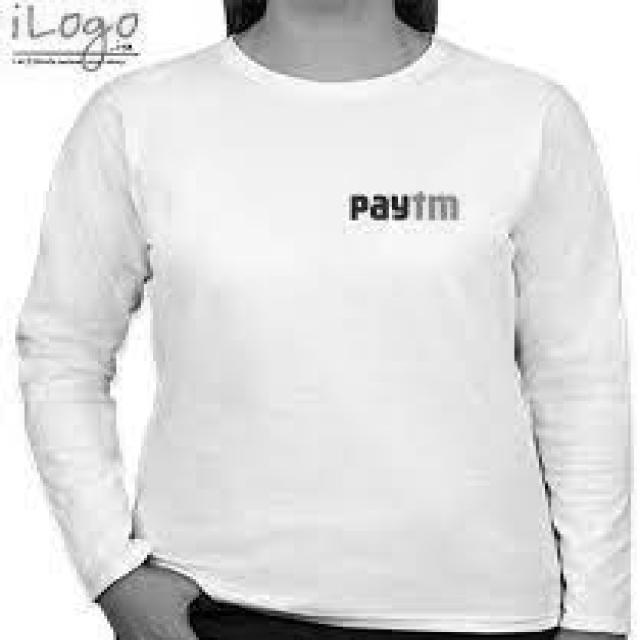fully_visible: (339, 182, 467, 232)
